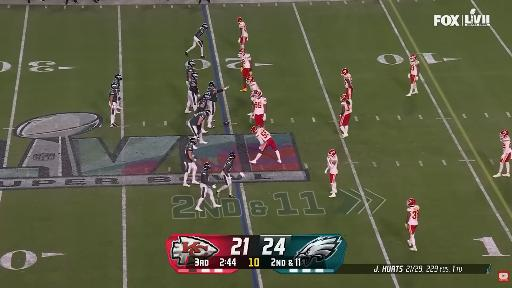Helmet: (255, 90, 265, 98), (499, 130, 510, 137), (114, 73, 122, 81), (238, 48, 245, 57), (407, 199, 415, 206), (246, 76, 254, 83), (341, 94, 349, 101), (203, 163, 211, 170), (204, 109, 211, 117), (188, 60, 196, 67), (202, 94, 211, 100), (191, 72, 198, 79), (328, 150, 336, 156), (410, 54, 416, 61), (342, 69, 348, 75), (209, 81, 215, 87), (229, 152, 235, 158), (251, 127, 257, 133), (190, 138, 196, 144), (203, 24, 209, 30), (237, 18, 242, 22)
Jersey: (407, 205, 419, 225), (253, 97, 267, 114), (208, 87, 223, 102), (195, 96, 208, 113), (327, 155, 338, 174), (190, 112, 206, 125), (256, 128, 271, 141), (223, 158, 234, 175), (502, 136, 512, 154), (184, 143, 193, 162), (189, 78, 198, 94), (342, 100, 352, 114), (241, 54, 251, 68), (410, 60, 419, 75), (201, 170, 209, 186), (109, 88, 118, 102), (186, 66, 194, 81), (239, 22, 247, 37), (112, 78, 120, 92), (198, 96, 208, 107), (195, 27, 205, 38), (344, 74, 351, 88), (250, 82, 258, 92)
Player: (196, 163, 221, 211), (250, 127, 281, 163), (208, 82, 229, 128), (217, 152, 235, 197), (185, 23, 208, 58), (494, 130, 511, 177), (183, 138, 199, 186), (187, 110, 210, 143), (406, 199, 419, 251), (238, 49, 253, 91), (184, 71, 199, 113), (325, 150, 338, 197), (339, 94, 352, 137), (407, 54, 419, 96), (252, 91, 266, 126), (109, 83, 118, 127), (246, 76, 260, 102), (113, 74, 122, 113), (342, 69, 353, 99), (195, 91, 210, 113), (238, 18, 248, 48), (246, 76, 259, 97), (186, 60, 195, 87)
